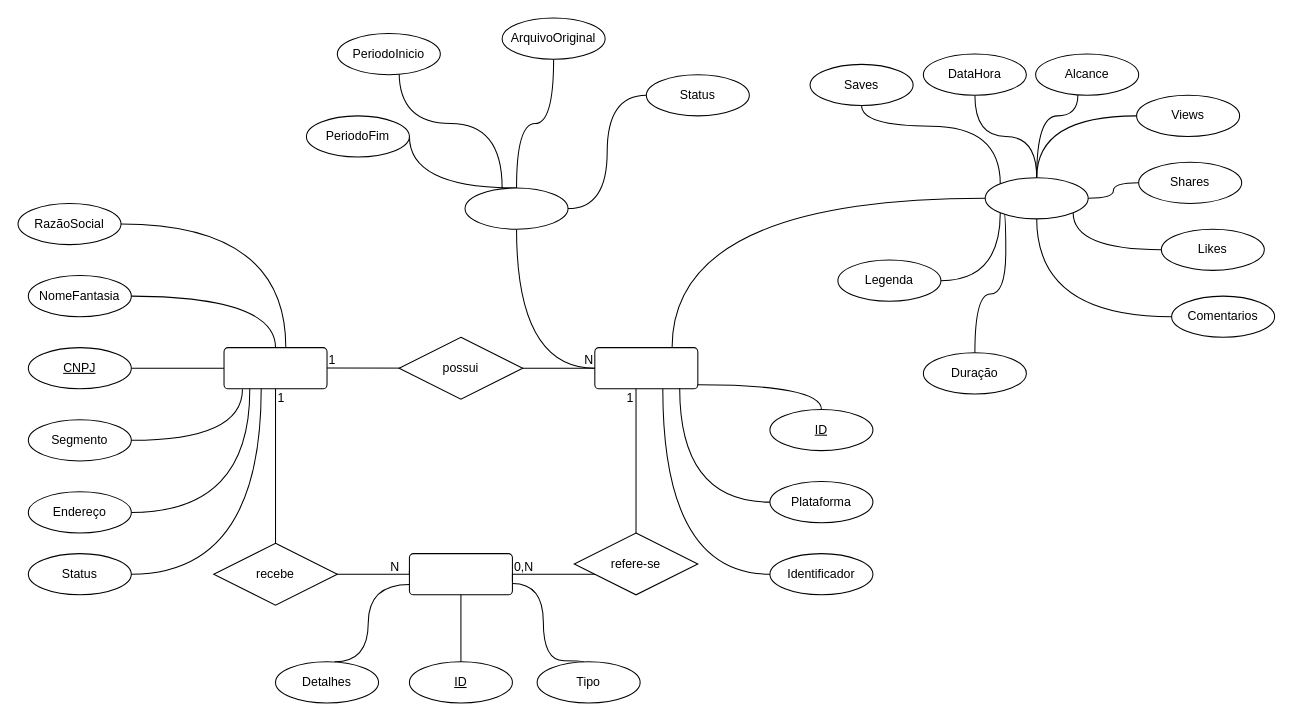
The diagram is 1293 pixels wide and 721 high, and some of its shapes have lost their labels. The box of each missing label's shape, as (x1, y1, x2, y2) in pixels:
Canal: (594, 347, 698, 389)
Empresa: (223, 347, 327, 389)
importação: (464, 187, 568, 229)
Post: (984, 177, 1088, 219)
Recomendação: (408, 553, 512, 595)
